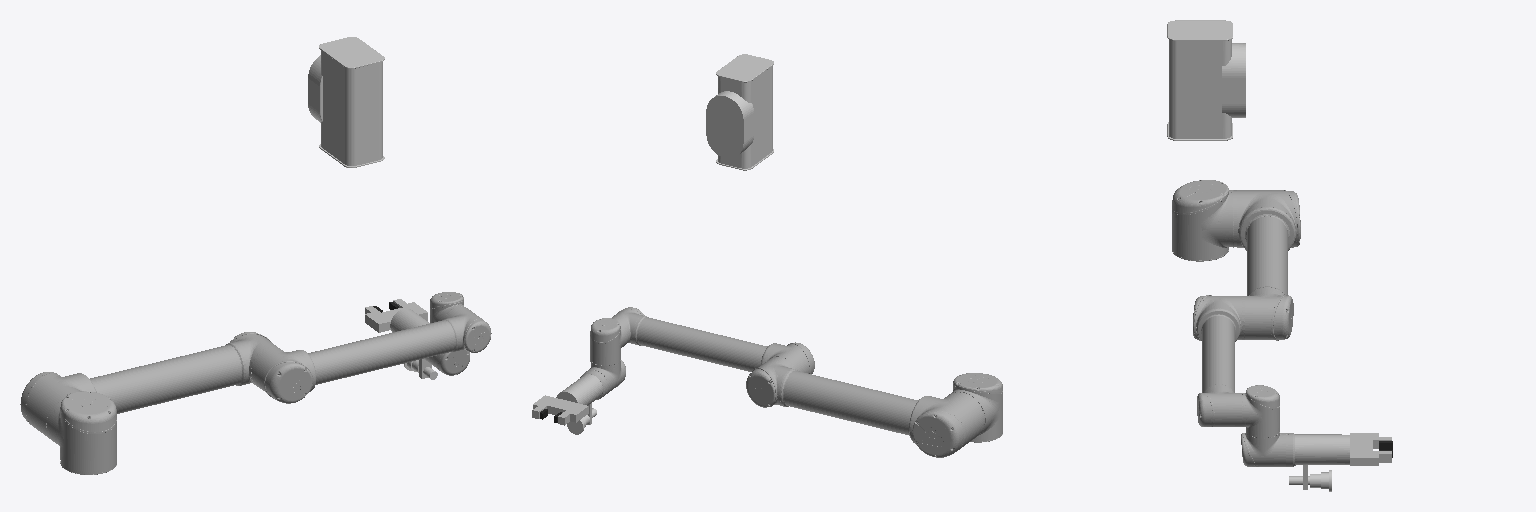
The robot description file, URDF, robot "spacelab_robot":
<?xml version="1.0" ?>
<!-- =================================================================================== -->
<!-- |    This document was autogenerated by xacro from [local-path]/workspaces/ros2_ws_training2.bis/src/isaacsim_rviz_training/models/urdf/spacelab_robot.urdf.xacro | -->
<!-- |    EDITING THIS FILE BY HAND IS NOT RECOMMENDED                                 | -->
<!-- =================================================================================== -->
<robot name="spacelab_robot">
  <!-- Material definition. These materials will be used for vizualisation in RVIZ -->
  <material name="black">
    <color rgba="0.0 0.0 0.0 1.0"/>
  </material>
  <material name="blue">
    <color rgba="0.0 0.0 0.8 1.0"/>
  </material>
  <material name="green">
    <color rgba="0.0 0.8 0.0 1.0"/>
  </material>
  <material name="grey">
    <color rgba="0.2 0.2 0.2 1.0"/>
  </material>
  <material name="orange">
    <color rgba="1.0 0.4235294117647059 0.0392156862745098 1.0"/>
  </material>
  <material name="brown">
    <color rgba="0.8705882352941177 0.8117647058823529 0.7647058823529411 1.0"/>
  </material>
  <material name="red">
    <color rgba="0.8 0.0 0.0 1.0"/>
  </material>
  <material name="white">
    <color rgba="1.0 1.0 1.0 1.0"/>
  </material>
  <!-- Used for fixing robot to Gazebo 'link_1' -->
  <link name="world"/>
  <!-- This first joint is fixed and link the world and the link_1 -->
  <joint name="joint_world.1" type="fixed">
    <parent link="world"/>
    <child link="link_1"/>
    <origin rpy="0.0 0.0 0.0" xyz="0.0 0.0 0.5"/>
  </joint>
  <!-- Definition of the baselink corresponding to the robot base -->
  <link name="link_1">
    <visual>
      <geometry>
        <!-- it possible to define the absolute path of the model 
        <mesh filename="file://[local-path]/ros2_ws_training/src/isaacsim_rviz_training/models/meshes/Base.dae"/> -->
        <!-- but it's prefered to define the path relatively to the package -->
        <mesh filename="package://isaacsim_rviz_training/models/meshes/Base.dae"/>
      </geometry>
      <material name="LightGrey">
        <color rgba="0.7 0.7 0.7 1.0"/>
      </material>
    </visual>
    <collision>
      <geometry>
        <mesh filename="package://isaacsim_rviz_training/models/meshes/Base.dae"/>
      </geometry>
    </collision>
    <inertial>
      <mass value="4.0"/>
      <origin rpy="0.0 0.0 0.0" xyz="0.0 0.0 0.0"/>
      <inertia ixx="0.0061063308908" ixy="0.0" ixz="0.0" iyy="0.0061063308908" iyz="0.0" izz="0.01125"/>
    </inertial>
  </link>
  <!-- Definition of the 1st joint -->
  <joint name="joint_1_2" type="revolute">
    <parent link="link_1"/>
    <child link="link_2"/>
    <origin rpy="0.0 0.0 0.0" xyz="0.0 0.0 0.1273"/>
    <axis xyz="0 0 1"/>
    <limit effort="330.0" lower="-3.14159265" upper="3.14159265" velocity="2.16"/>
    <dynamics damping="10.0" friction="10.0"/>
  </joint>
  <!-- Definition of the 1st movable part of the robot -->
  <link name="link_2">
    <visual>
      <geometry>
        <mesh filename="package://isaacsim_rviz_training/models/meshes/Shoulder.dae"/>
      </geometry>
      <material name="LightGrey">
        <color rgba="0.7 0.7 0.7 1.0"/>
      </material>
    </visual>
    <collision>
      <geometry>
        <mesh filename="package://isaacsim_rviz_training/models/meshes/Shoulder.dae"/>
      </geometry>
    </collision>
    <inertial>
      <mass value="7.778"/>
      <origin rpy="0 0 0" xyz="0.0 0.0 0.0"/>
      <inertia ixx="0.0314743125769" ixy="0.0" ixz="0.0" iyy="0.0314743125769" iyz="0.0" izz="0.021875625"/>
    </inertial>
  </link>
  <!-- Definition of the 2nd joint -->
  <joint name="joint_2_3" type="revolute">
    <parent link="link_2"/>
    <child link="link_3"/>
    <origin rpy="0.0 1.570796325 0.0" xyz="0.0 0.220941 0.0"/>
    <axis xyz="0 1 0"/>
    <limit effort="330.0" lower="-3.14159265" upper="3.14159265" velocity="2.16"/>
    <dynamics damping="10.0" friction="10.0"/>
  </joint>
  <!-- Definition of the 2nd movable part of the robot -->
  <link name="link_3">
    <visual>
      <geometry>
        <mesh filename="package://isaacsim_rviz_training/models/meshes/UpperArm.dae"/>
      </geometry>
      <material name="LightGrey">
        <color rgba="0.7 0.7 0.7 1.0"/>
      </material>
    </visual>
    <collision>
      <geometry>
        <mesh filename="package://isaacsim_rviz_training/models/meshes/UpperArm.dae"/>
      </geometry>
    </collision>
    <inertial>
      <mass value="12.93"/>
      <origin rpy="0 0 0" xyz="0.0 0.0 0.306"/>
      <inertia ixx="0.421753803798" ixy="0.0" ixz="0.0" iyy="0.421753803798" iyz="0.0" izz="0.036365625"/>
    </inertial>
  </link>
  <!-- Definition of the 3rd joint -->
  <joint name="joint_3_4" type="revolute">
    <parent link="link_3"/>
    <child link="link_4"/>
    <origin rpy="0.0 0.0 0.0" xyz="0.0 -0.1719 0.612"/>
    <axis xyz="0 1 0"/>
    <limit effort="150.0" lower="-3.14159265" upper="3.14159265" velocity="3.15"/>
    <dynamics damping="10.0" friction="10.0"/>
  </joint>
  <!-- Definition of the 3rd movable part of the robot -->
  <link name="link_4">
    <visual>
      <geometry>
        <mesh filename="package://isaacsim_rviz_training/models/meshes/Forearm.dae"/>
      </geometry>
      <material name="LightGrey">
        <color rgba="0.7 0.7 0.7 1.0"/>
      </material>
    </visual>
    <collision>
      <geometry>
        <mesh filename="package://isaacsim_rviz_training/models/meshes/Forearm.dae"/>
      </geometry>
    </collision>
    <inertial>
      <mass value="3.87"/>
      <origin rpy="0 0 0" xyz="0.0 0.0 0.28615"/>
      <inertia ixx="0.111069694097" ixy="0.0" ixz="0.0" iyy="0.111069694097" iyz="0.0" izz="0.010884375"/>
    </inertial>
  </link>
  <!-- Definition of the 4th joint -->
  <joint name="joint_4_5" type="revolute">
    <parent link="link_4"/>
    <child link="link_5"/>
    <origin rpy="0.0 1.570796325 0.0" xyz="0.0 0.0 0.5723"/>
    <axis xyz="0 1 0"/>
    <limit effort="54.0" lower="-3.14159265" upper="3.14159265" velocity="3.2"/>
    <dynamics damping="10.0" friction="10.0"/>
  </joint>
  <!-- Definition of the 4th movable part of the robot -->
  <link name="link_5">
    <visual>
      <geometry>
        <mesh filename="package://isaacsim_rviz_training/models/meshes/Wrist1.dae"/>
      </geometry>
      <material name="LightGrey">
        <color rgba="0.7 0.7 0.7 1.0"/>
      </material>
    </visual>
    <collision>
      <geometry>
        <mesh filename="package://isaacsim_rviz_training/models/meshes/Wrist1.dae"/>
      </geometry>
    </collision>
    <inertial>
      <mass value="1.96"/>
      <origin rpy="0 0 0" xyz="0.0 0.0 0.0"/>
      <inertia ixx="0.0051082479567" ixy="0.0" ixz="0.0" iyy="0.0051082479567" iyz="0.0" izz="0.0055125"/>
    </inertial>
  </link>
  <!-- Definition of the 5th joint -->
  <joint name="joint_5_6" type="revolute">
    <parent link="link_5"/>
    <child link="link_6"/>
    <origin rpy="0.0 0.0 0.0" xyz="0.0 0.1149 0.0"/>
    <axis xyz="0 0 1"/>
    <limit effort="54.0" lower="-3.14159265" upper="3.14159265" velocity="3.2"/>
    <dynamics damping="10.0" friction="10.0"/>
  </joint>
  <!-- Definition of the 5th movable part of the robot -->
  <link name="link_6">
    <visual>
      <geometry>
        <mesh filename="package://isaacsim_rviz_training/models/meshes/Wrist2.dae"/>
      </geometry>
      <material name="LightGrey">
        <color rgba="0.7 0.7 0.7 1.0"/>
      </material>
    </visual>
    <collision>
      <geometry>
        <mesh filename="package://isaacsim_rviz_training/models/meshes/Wrist2.dae"/>
      </geometry>
    </collision>
    <inertial>
      <mass value="1.96"/>
      <origin rpy="0 0 0" xyz="0.0 0.0 0.0"/>
      <inertia ixx="0.0051082479567" ixy="0.0" ixz="0.0" iyy="0.0051082479567" iyz="0.0" izz="0.0055125"/>
    </inertial>
  </link>
  <!-- Definition of the 6th joint -->
  <joint name="joint_6_7" type="revolute">
    <parent link="link_6"/>
    <child link="link_7"/>
    <origin rpy="0.0 0.0 0.0" xyz="0.0 0.0 0.1157"/>
    <axis xyz="0 1 0"/>
    <limit effort="54.0" lower="-3.14159265" upper="3.14159265" velocity="3.2"/>
    <dynamics damping="10.0" friction="10.0"/>
  </joint>
  <!-- Definition of the 6th movable part of the robot -->
  <link name="link_7">
    <visual>
      <geometry>
        <mesh filename="package://isaacsim_rviz_training/models/meshes/Wrist3.dae"/>
      </geometry>
      <material name="LightGrey">
        <color rgba="0.7 0.7 0.7 1.0"/>
      </material>
    </visual>
    <collision>
      <geometry>
        <mesh filename="package://isaacsim_rviz_training/models/meshes/Wrist3.dae"/>
      </geometry>
    </collision>
    <inertial>
      <mass value="0.202"/>
      <origin rpy="0 0 0" xyz="0.0 0.0 0.0"/>
      <inertia ixx="0.000526462289415" ixy="0.0" ixz="0.0" iyy="0.000526462289415" iyz="0.0" izz="0.000568125"/>
    </inertial>
  </link>
  <!-- Specify standard inertial calculations https://en.wikipedia.org/wiki/List_of_moments_of_inertia -->
  <!-- These make use of xacro's mathematical functionality -->
  <!-- z size of the end effector fingers -->
  <!-- Definition of the end effector joint that is fixed -->
  <joint name="joint_7_EE" type="fixed">
    <parent link="link_7"/>
    <child link="link_EE"/>
    <!-- Use the EE position parameter -->
    <origin rpy="0 0 3.141592" xyz="0.0 0.0845 0.0"/>
  </joint>
  <!-- Definition of the end effector link that is fixed -->
  <link name="link_EE">
    <visual>
      <geometry>
        <mesh filename="package://isaacsim_rviz_training/models/meshes/END_EFFECTOR.dae"/>
      </geometry>
    </visual>
    <collision>
      <geometry>
        <mesh filename="package://isaacsim_rviz_training/models/meshes/END_EFFECTOR.dae"/>
      </geometry>
    </collision>
    <!-- <inertial>
      <origin xyz="0 0 0"/>
      <mass value="${EE_mass}"/>
      <inertia ixx="0.003" ixy="0" ixz="0"
          iyy="0.003" iyz="0"
          izz="0.009"/>
    </inertial> -->
  </link>
  <!-- Define the end effector gripper left finger -->
  <link name="link_Lgripper">
    <inertial>
      <origin rpy="0 0 0" xyz="0 0 0"/>
      <mass value="0.1"/>
      <inertia ixx="1.3541666666666668e-05" ixy="0.0" ixz="0.0" iyy="4.166666666666667e-06" iyz="0.0" izz="1.1041666666666668e-05"/>
    </inertial>
    <!-- <inertial>
      <mass value="0.1"/>
      <origin xyz="0.0 0.0 0.0"/>
      <inertia ixx="0.001" ixy="0.0" ixz="0.0" iyy="0.001" iyz="0.0" izz="0.001"/>
    </inertial> -->
    <collision>
      <origin rpy="0 0 0" xyz="0.025 -0.238 0.0"/>
      <geometry>
        <box size="0.01 0.035 0.02"/>
      </geometry>
    </collision>
    <visual>
      <origin rpy="0 0 0" xyz="0.025 -0.238 0.0"/>
      <geometry>
        <box size="0.01 0.035 0.02"/>
      </geometry>
      <material name="grey">
        <color rgba="0.2 0.2 0.2 1"/>
      </material>
    </visual>
  </link>
  <!-- Define the prismatic joint between the end effector and the left finger -->
  <joint name="joint_EE_Lgripper" type="prismatic">
    <parent link="link_EE"/>
    <child link="link_Lgripper"/>
    <origin rpy="0 0 0" xyz="0 0 0"/>
    <axis xyz="1 0 0"/>
    <limit effort="500" lower="-0.02" upper="0.0" velocity="0.05"/>
    <dynamics damping="60.0" friction="4.0"/>
  </joint>
  <!-- Define the end effector gripper right finger -->
  <link name="link_Rgripper">
    <inertial>
      <origin rpy="0 0 0" xyz="0 0 0"/>
      <mass value="0.1"/>
      <inertia ixx="1.3541666666666668e-05" ixy="0.0" ixz="0.0" iyy="4.166666666666667e-06" iyz="0.0" izz="1.1041666666666668e-05"/>
    </inertial>
    <!-- No inertia for links that are fixed otherwise error -->
    <!-- <inertial>
      <mass value="0.1"/>
      <origin xyz="0.0 0.0 0.0"/>
      <inertia ixx="0.001" ixy="0.0" ixz="0.0" iyy="0.001" iyz="0.0" izz="0.001"/>
    </inertial> -->
    <collision>
      <origin rpy="0 0 0" xyz="-0.025 -0.238 0.0"/>
      <geometry>
        <box size="0.01 0.035 0.02"/>
      </geometry>
    </collision>
    <visual>
      <origin rpy="0 0 0" xyz="-0.025 -0.238 0.0"/>
      <geometry>
        <box size="0.01 0.035 0.02"/>
      </geometry>
      <material name="grey">
        <color rgba="0.2 0.2 0.2 1"/>
      </material>
    </visual>
  </link>
  <!-- Define the prismatic joint between the end effector and the right finger -->
  <joint name="joint_EE_Rgripper" type="prismatic">
    <parent link="link_EE"/>
    <child link="link_Rgripper"/>
    <origin rpy="0 0 0" xyz="0 0 0"/>
    <axis xyz="1 0 0"/>
    <limit effort="500" lower="0.0" upper="0.02" velocity="0.05"/>
    <dynamics damping="60.0" friction="4.0"/>
    <!-- Mimic the movement of joint_EE_Lgripper -->
    <mimic joint="joint_EE_Lgripper" multiplier="-1" offset="0"/>
  </joint>
  <!-- The next joint and links are just for debug purposes related to the "_mimic"
   suffix added by the gazebo ros2 control plugin at the end of the joint -->
  <joint name="joint_EE_Rgripper_mimic" type="fixed">
    <parent link="world"/>
    <child link="random"/>
  </joint>
  <link name="random"/>
  <gazebo reference="link_Lgripper">
    <!-- contact sensor -->
    <sensor name="end_effector_sensor" type="contact">
      <selfCollide>true</selfCollide>
      <alwaysOn>true</alwaysOn>
      <update_rate>50</update_rate>
      <contact>
        <collision>link_Lgripper_collision</collision>
      </contact>
      <!-- gazebo plugin -->
      <plugin filename="libgazebo_ros_bumper.so" name="gazebo_ros_bumper_sensor">
        <ros>
          <namespace>contact_sensor</namespace>
          <remapping>bumper_states:=bumper_link_Lgripper</remapping>
        </ros>
        <frame_name>link_Lgripper</frame_name>
      </plugin>
    </sensor>
  </gazebo>
  <!-- Definition of the lidar joint -->
  <joint name="joint_world.lidar" type="fixed">
    <origin rpy="3.141592 0.0 3.141592" xyz="0.8 0.0 1.4"/>
    <parent link="world"/>
    <child link="link_lidar"/>
  </joint>
  <!-- Definition of the lidar link that will be used to position the 3D shape -->
  <link name="link_lidar">
    <inertial>
      <origin xyz="0 0 0"/>
      <mass value="1.0"/>
      <inertia ixx="0.003" ixy="0" ixz="0" iyy="0.003" iyz="0" izz="0.009"/>
    </inertial>
    <visual>
      <geometry>
        <mesh filename="package://isaacsim_rviz_training/models/meshes/LIDAR.dae"/>
      </geometry>
    </visual>
    <collision>
      <geometry>
        <mesh filename="package://isaacsim_rviz_training/models/meshes/LIDAR.dae"/>
      </geometry>
    </collision>
  </link>
  <!-- Definition of additional lidar joint that will be used to position the lidar focal-->
  <joint name="joint_lidar.laser" type="fixed">
    <origin rpy="0.0 -1.570796 0.0" xyz="0.0 0.0 0.0"/>
    <parent link="link_lidar"/>
    <child link="link_laser"/>
  </joint>
  <link name="link_laser">
    </link>
  <!-- Definition of the lidar as a ray sensor inside gazebo -->
  <gazebo reference="link_laser">
    <sensor name="lidar_3d" type="ray">
      <pose>0 0 0 0 0 0</pose>
      <visualize>false</visualize>
      <update_rate>10</update_rate>
      <ray>
        <scan>
          <horizontal>
            <samples>50</samples>
            <resolution>1</resolution>
            <min_angle>-0.2</min_angle>
            <max_angle>0.2</max_angle>
          </horizontal>
          <vertical>
            <samples>50</samples>
            <resolution>1</resolution>
            <min_angle>-0.2</min_angle>
            <max_angle>0.2</max_angle>
          </vertical>
        </scan>
        <range>
          <min>0.3</min>
          <max>10.0</max>
          <resolution>0.001</resolution>
        </range>
        <noise>
          <type>gaussian</type>
          <mean>0.0</mean>
          <stddev>0.0</stddev>
        </noise>
      </ray>
      <!-- Gazebo requires the velodyne_gazebo_plugins package to simulate the interfaces of the LIDAR-->
      <plugin filename="libgazebo_ros_lidar_3d.so" name="gazebo_ros_laser_controller">
        <topicName>/lidar_3d_points</topicName>
        <frameName>link_laser</frameName>
        <min_range>0.3</min_range>
        <max_range>10.0</max_range>
        <gaussianNoise>0.0005</gaussianNoise>
      </plugin>
    </sensor>
  </gazebo>
  <!-- Definition of the camera joint -->
  <joint name="joint_EE.cam3D" type="fixed">
    <axis xyz="0 1 0"/>
    <origin rpy="0 0 0" xyz="0 -0.025 0.09"/>
    <parent link="link_EE"/>
    <child link="link_cam3D"/>
  </joint>
  <!-- Definition of the camera link that will be used to position the 3D shape -->
  <link name="link_cam3D">
    <collision>
      <geometry>
        <mesh filename="package://isaacsim_rviz_training/models/meshes/CAMERA.dae"/>
      </geometry>
    </collision>
    <visual>
      <geometry>
        <mesh filename="package://isaacsim_rviz_training/models/meshes/CAMERA.dae"/>
      </geometry>
    </visual>
    <inertial>
      <mass value="1e-5"/>
      <origin rpy="0 0 0" xyz="0 0 0"/>
      <inertia ixx="1e-6" ixy="0" ixz="0" iyy="1e-6" iyz="0" izz="1e-6"/>
    </inertial>
  </link>
  <!-- Definition of additional camera joint that will be used to position the camera sensor-->
  <joint name="joint_cam3D.camSensor" type="fixed">
    <axis xyz="0 1 0"/>
    <origin rpy="0 0 -1.570796" xyz="0 -0.05 0"/>
    <parent link="link_cam3D"/>
    <child link="link_camSensor"/>
  </joint>
  <link name="link_camSensor">
  </link>
  <!-- Definition of additional camera joint that will be used to position the camera focal-->
  <joint name="joint_camSensor.camFocale" type="fixed">
    <origin rpy="-1.570796 0 -1.570796" xyz="0 0 0"/>
    <parent link="link_camSensor"/>
    <child link="link_camFocale"/>
  </joint>
  <link name="link_camFocale">
  </link>
  <!-- Definition of the camera as a sensor inside gazebo -->
  <gazebo reference="link_camSensor">
    <sensor name="camera1" type="camera">
      <pose> 0 0 0 0 0 0 </pose>
      <!-- Can be turned to true in order to activate vizualisation in gazebo -->
      <visualize>false</visualize>
      <update_rate>10</update_rate>
      <camera name="head">
        <horizontal_fov>1.3962634</horizontal_fov>
        <image>
          <width>800</width>
          <height>800</height>
          <format>R8G8B8</format>
        </image>
        <clip>
          <near>0.05</near>
          <far>10</far>
        </clip>
        <noise>
          <type>gaussian</type>
          <mean>0.0</mean>
          <stddev>0.007</stddev>
        </noise>
      </camera>
      <!-- Definition of the gazebo plugin to be used to simulmate the camera interfaces -->
      <plugin filename="libgazebo_ros_camera.so" name="camera_controller">
        <frameName>link_camFocale</frameName>
      </plugin>
    </sensor>
  </gazebo>
  <!-- Definition of the parameters associated to ros2_control -->
  <ros2_control name="SpacelabRobotPositionningSystem" type="system">
    <hardware>
      <plugin>ros2_control_spacelab_robot/SpacelabRobotPositionningSystem</plugin>
    </hardware>
    <joint name="joint_1_2">
      <!-- Definition of the command interface-->
      <command_interface name="position">
        <!-- Definition of joints position limits-->
        <param name="min">-3.14</param>
        <param name="max">3.14</param>
      </command_interface>
      <!-- Definition of the state interfaces-->
      <state_interface name="position"/>
      <state_interface name="velocity"/>
      <state_interface name="effort"/>
    </joint>
    <joint name="joint_2_3">
      <command_interface name="position">
        <param name="min">-3.14</param>
        <param name="max">3.14</param>
      </command_interface>
      <state_interface name="position"/>
      <state_interface name="velocity"/>
      <state_interface name="effort"/>
    </joint>
    <joint name="joint_3_4">
      <command_interface name="position">
        <param name="min">-3.14</param>
        <param name="max">3.14</param>
      </command_interface>
      <state_interface name="position"/>
      <state_interface name="velocity"/>
      <state_interface name="effort"/>
    </joint>
    <joint name="joint_4_5">
      <command_interface name="position">
        <param name="min">-3.14</param>
        <param name="max">3.14</param>
      </command_interface>
      <state_interface name="position"/>
      <state_interface name="velocity"/>
      <state_interface name="effort"/>
    </joint>
    <joint name="joint_5_6">
      <command_interface name="position">
        <param name="min">-3.14</param>
        <param name="max">3.14</param>
      </command_interface>
      <state_interface name="position"/>
      <state_interface name="velocity"/>
      <state_interface name="effort"/>
    </joint>
    <joint name="joint_6_7">
      <command_interface name="position">
        <param name="min">-3.14</param>
        <param name="max">3.14</param>
      </command_interface>
      <state_interface name="position"/>
      <state_interface name="velocity"/>
      <state_interface name="effort"/>
    </joint>
    <joint name="joint_EE_Lgripper">
      <command_interface name="position">
        <param name="min">0.0</param>
        <param name="max">0.02</param>
      </command_interface>
      <state_interface name="position"/>
      <state_interface name="velocity"/>
      <state_interface name="effort"/>
    </joint>
    <joint name="joint_EE_Rgripper">
      <param name="mimic">joint_EE_Lgripper</param>
      <param name="multiplier">-1</param>
      <command_interface name="position"/>
      <state_interface name="position"/>
      <state_interface name="velocity"/>
      <state_interface name="effort"/>
    </joint>
  </ros2_control>
</robot>

--- What the picture shows (computed from the rendered views, not written in the file) ---
3 views of the same robot in one strip: view 1: azimuth 30°, elevation 25°; view 2: azimuth 150°, elevation 25°; view 3: azimuth 270°, elevation 25° (orthographic).
Model spacelab_robot with 17 links and 16 joints (6 revolute, 2 prismatic, 8 fixed), rooted at world, posed every joint at zero.
Visible links, largest first — view 1: link_3, link_4, link_lidar, link_2, link_EE, link_6, link_5; view 2: link_3, link_lidar, link_4, link_2, link_EE, link_5, link_6; view 3: link_lidar, link_3, link_4, link_2, link_EE, link_5, link_6.
Boxes of the visible links, x1,y1,x2,y2 form: link_3: [20, 332, 279, 441]; link_4: [249, 306, 491, 403]; link_lidar: [308, 37, 384, 167]; link_2: [48, 391, 116, 474]; link_EE: [365, 299, 431, 378]; link_6: [424, 349, 469, 375]; link_5: [430, 292, 463, 322]; link_3: [746, 358, 984, 457]; link_lidar: [706, 54, 773, 170]; link_4: [612, 307, 814, 373]; link_2: [952, 373, 1002, 442]; link_EE: [532, 374, 602, 425]; link_5: [590, 318, 627, 365]; link_6: [586, 360, 625, 393]; link_lidar: [1167, 20, 1245, 140]; link_3: [1233, 190, 1300, 340]; link_4: [1193, 295, 1244, 426]; link_2: [1172, 180, 1232, 261]; link_EE: [1295, 433, 1391, 489]; link_5: [1242, 385, 1279, 437]; link_6: [1241, 433, 1285, 466].
Size in the robot's own frame: 1.33 by 0.5902 by 1.15 metres.
Meshes: 10 distinct files referenced, 9 mesh visuals loaded (9 Collada DAE); not drawn: 1 (reference not matched to a file when rendering).
